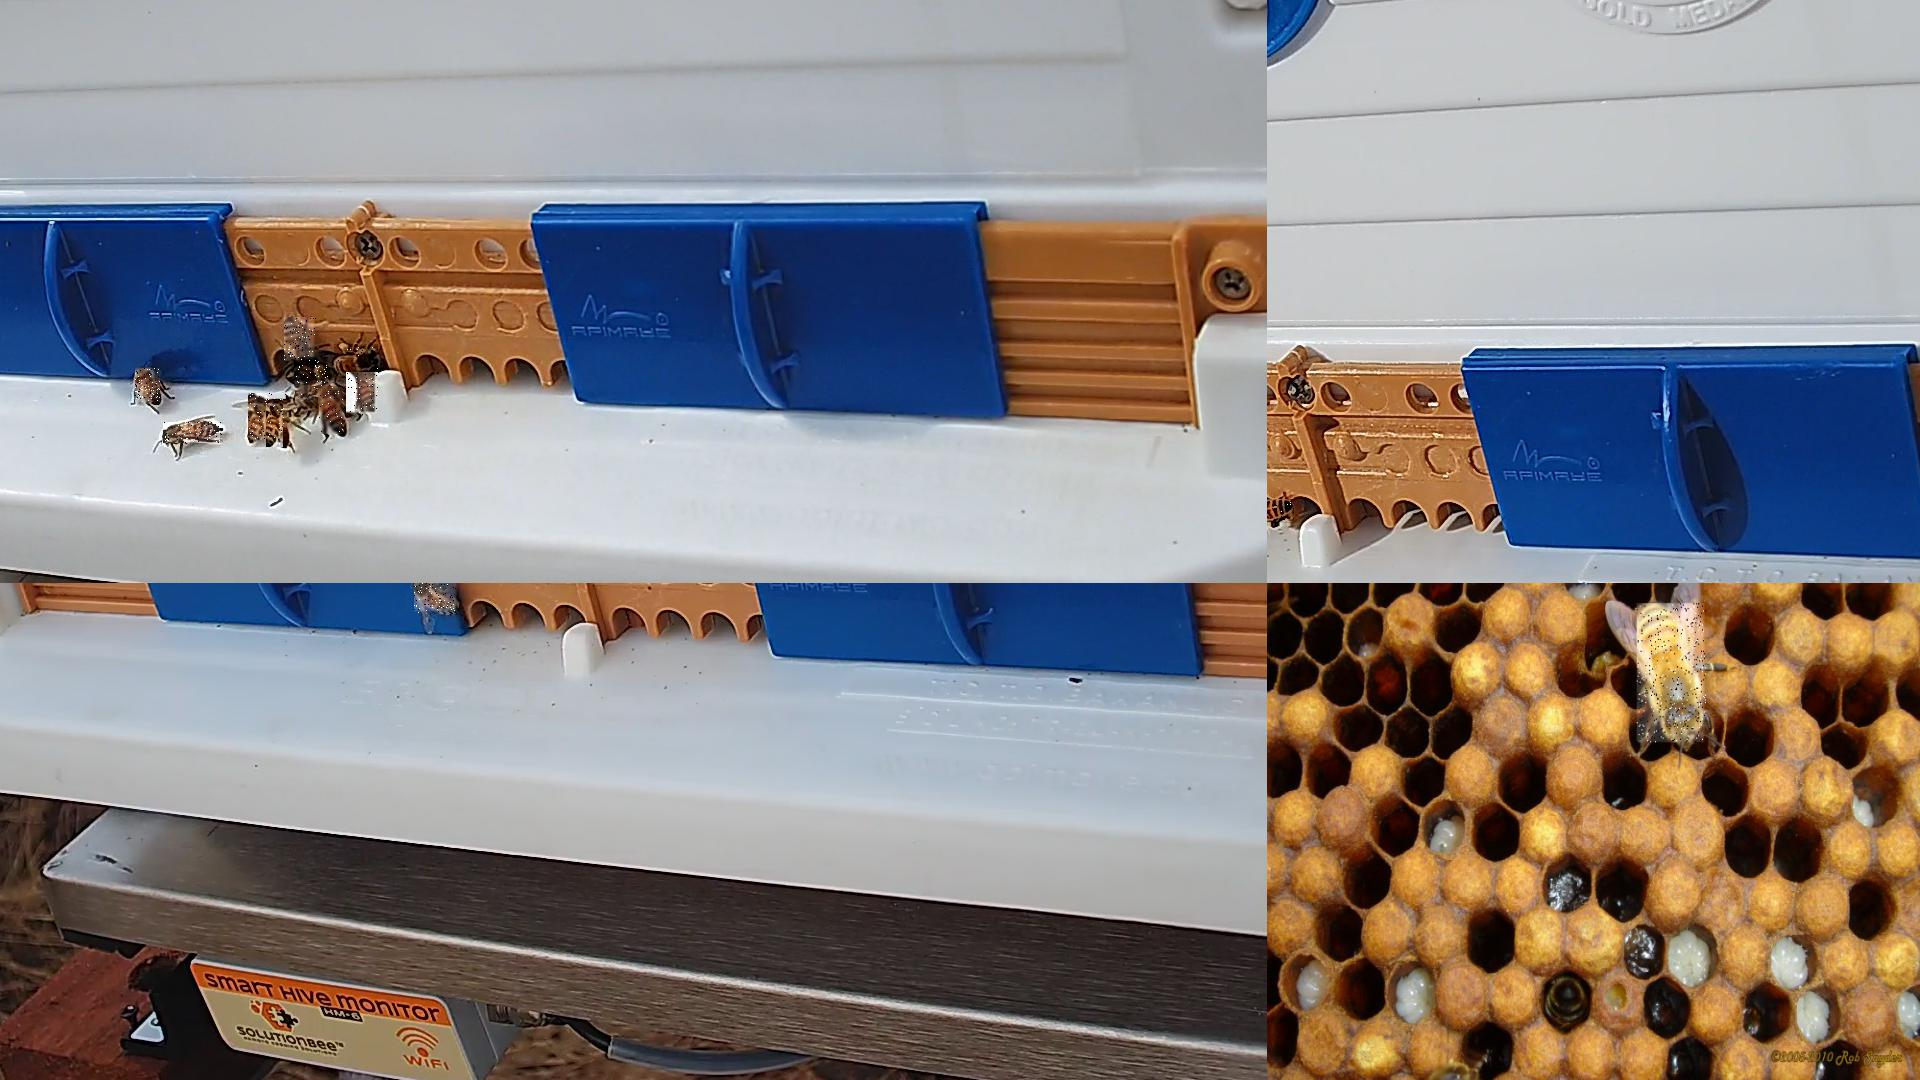bee: (1638, 604, 1708, 744), (248, 393, 287, 442), (285, 318, 318, 363), (347, 373, 380, 417), (415, 583, 460, 615), (164, 422, 224, 444), (320, 388, 345, 436), (266, 400, 287, 448), (295, 384, 339, 406), (136, 369, 161, 405), (1267, 498, 1296, 527)
pollenbee: (334, 344, 380, 373), (294, 357, 331, 388)
